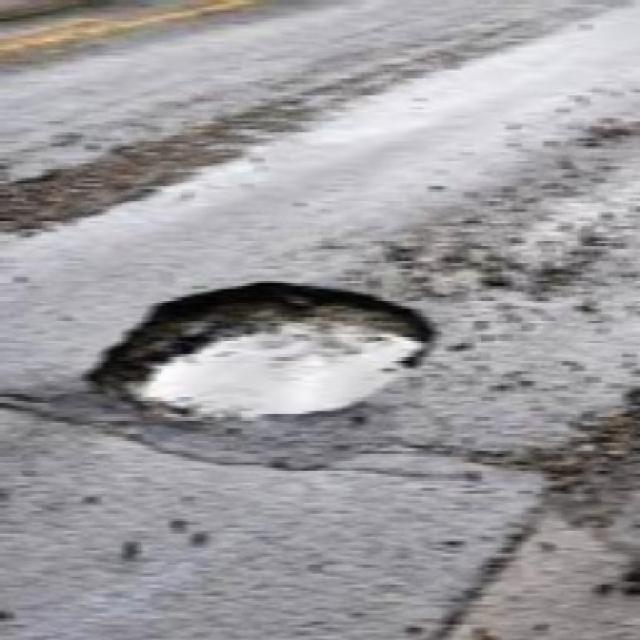Pothole: (65, 270, 449, 424)
